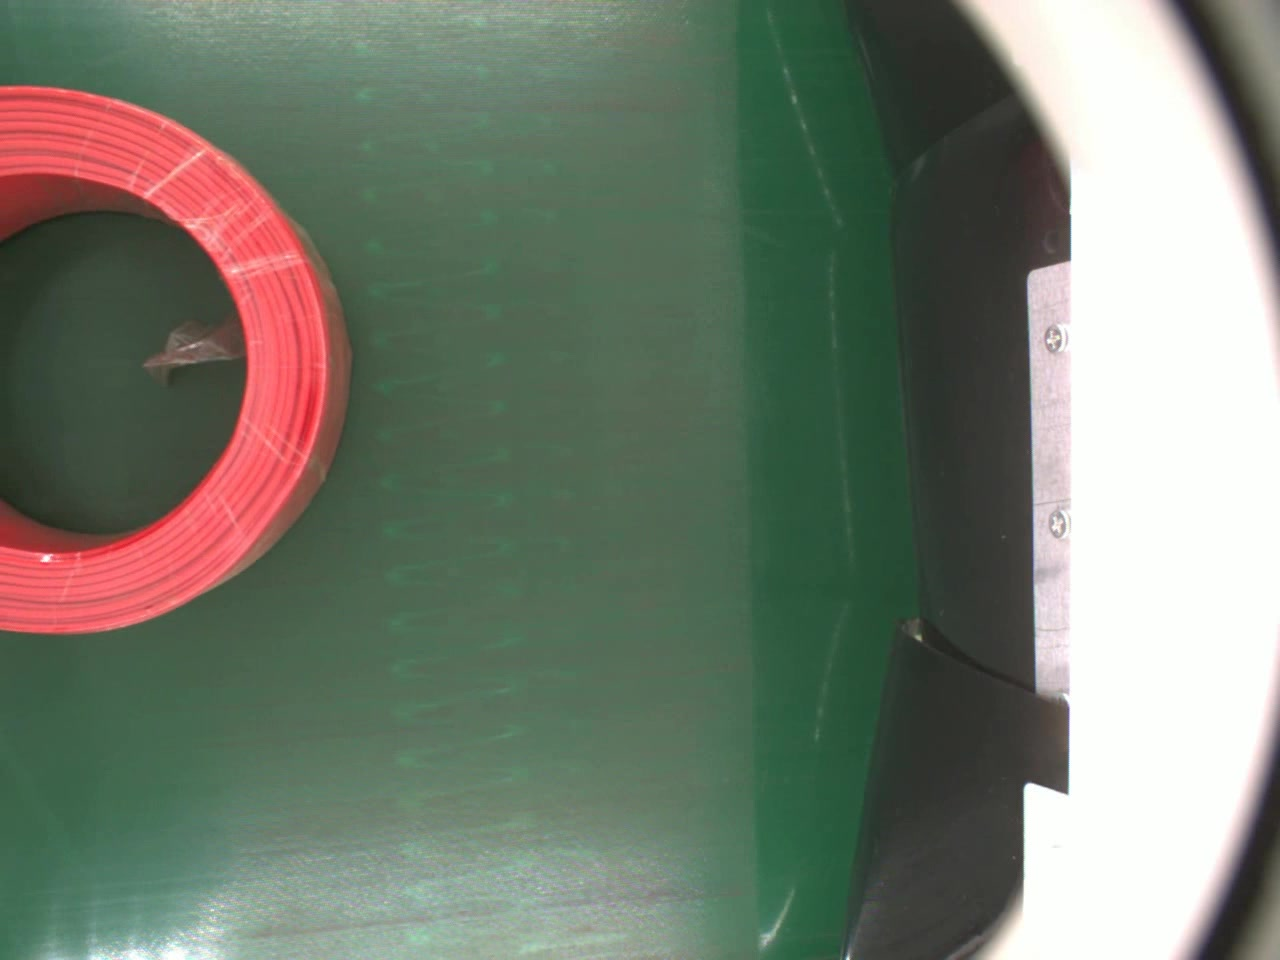red: (0, 79, 355, 639)
